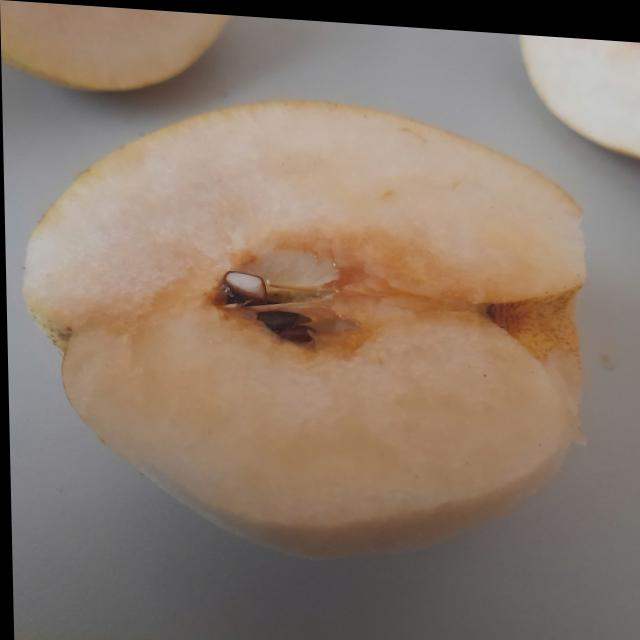Le: (29, 84, 591, 591)
